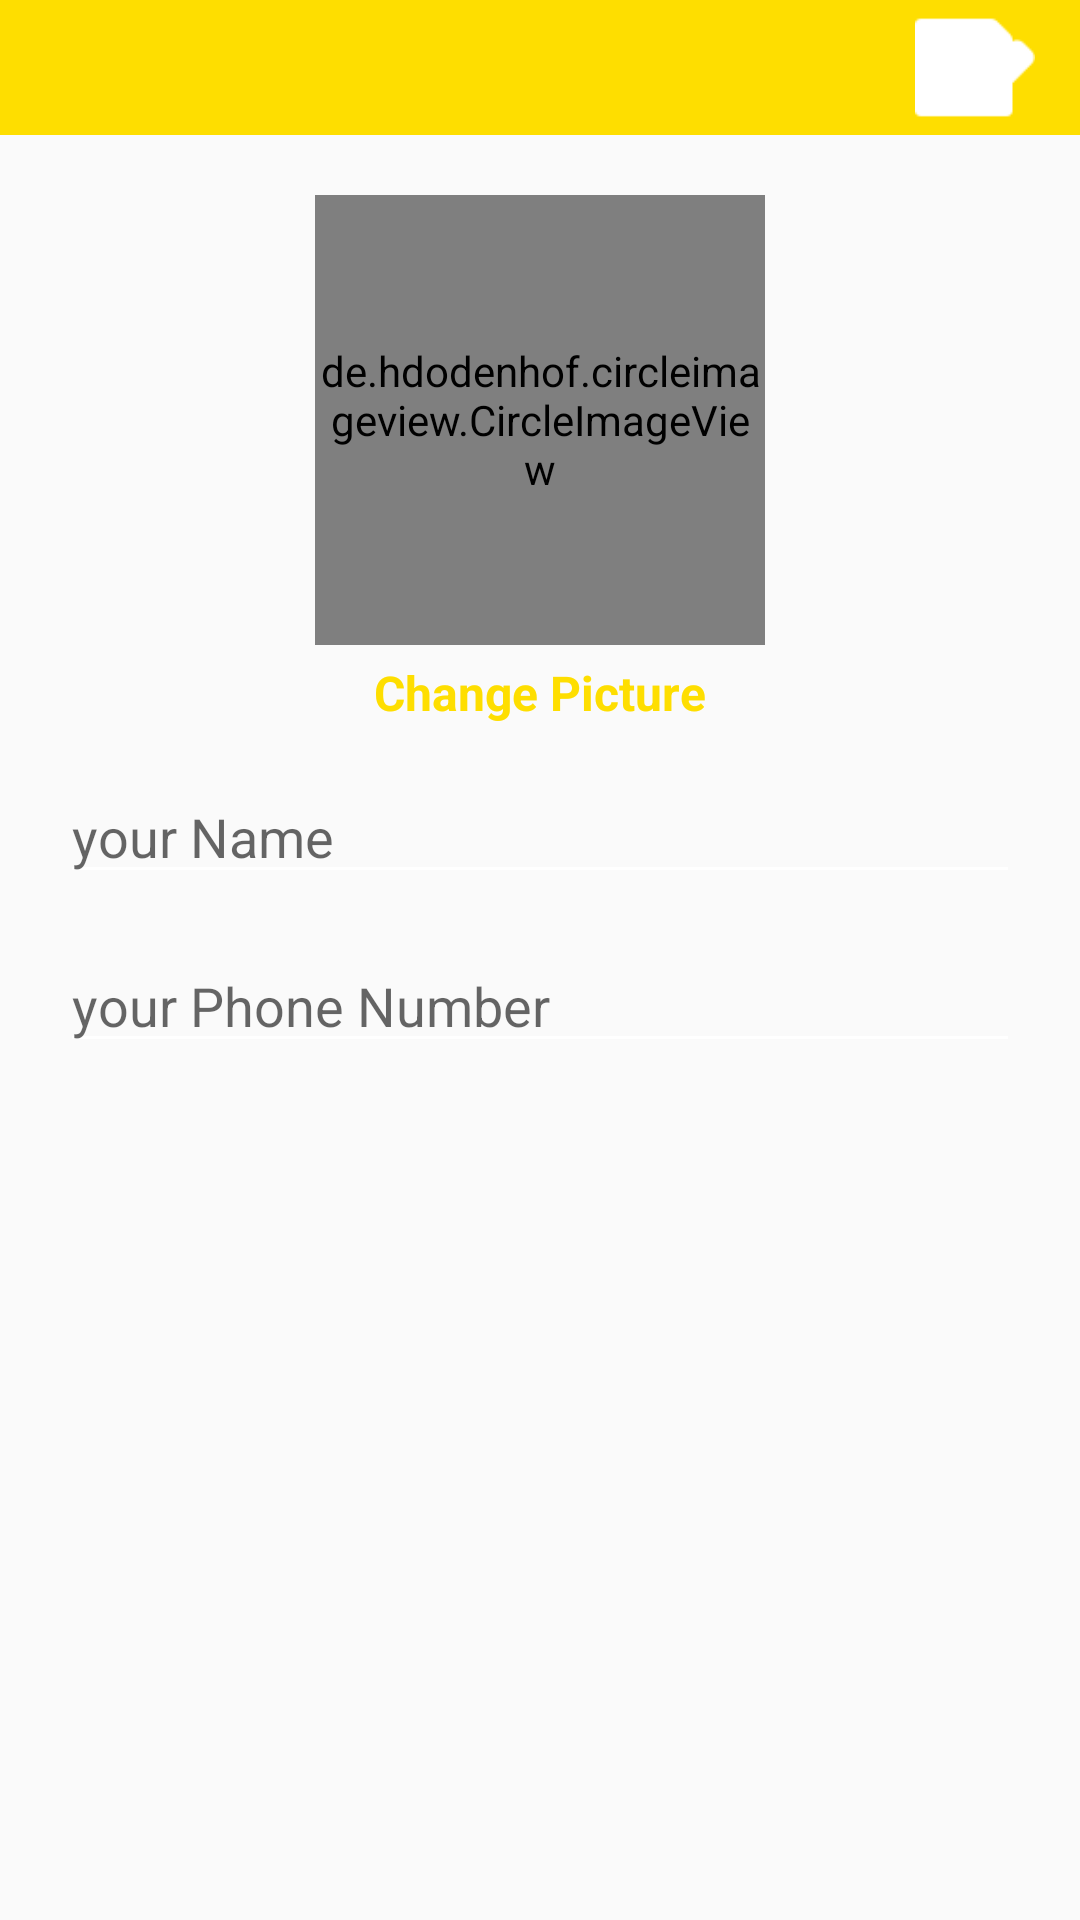

Screen size 1080px×1920px. Icon name, then its center in pixels as (x,y):
save edited info: (975,67)
